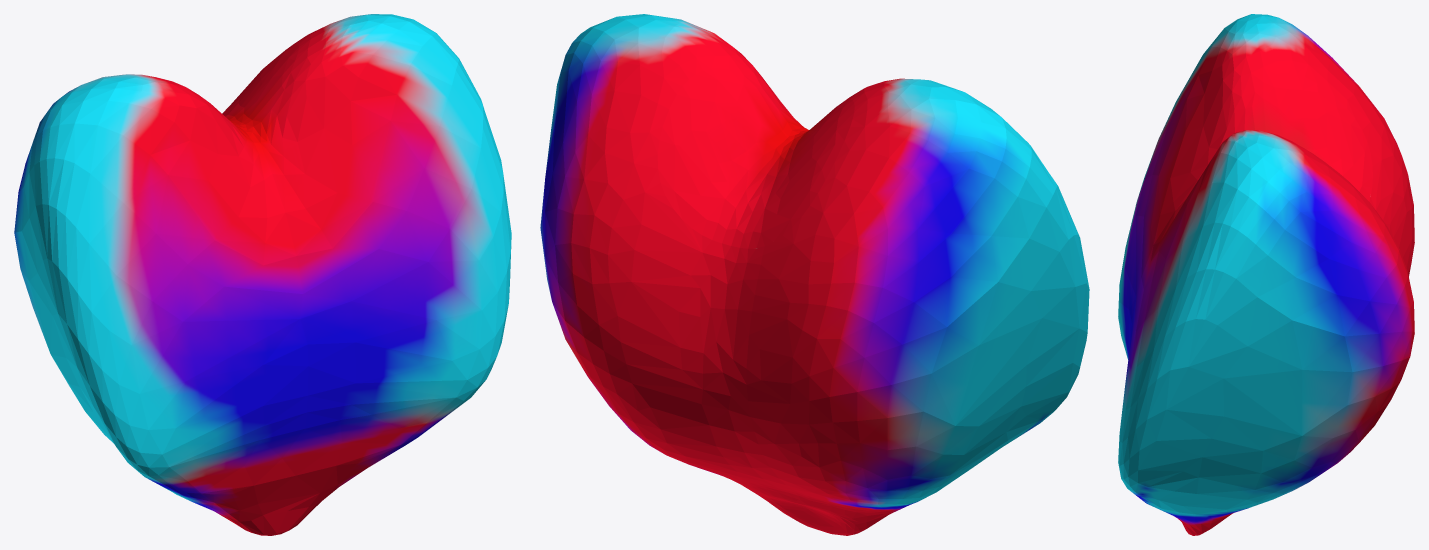
3 renders of one model, left to right at view 1: azimuth 30°, elevation 25°; view 2: azimuth 150°, elevation 25°; view 3: azimuth 270°, elevation 25°, orthographic. The views are drawn at different scales.
Visible parts, largest first — view 1: 円柱; view 2: 円柱; view 3: 円柱.
Boxes of the visible parts, x1,y1,x2,y2 form: 円柱: (14, 14, 511, 535); 円柱: (540, 14, 1089, 535); 円柱: (1118, 14, 1414, 535).
Size of the model in its own units: 0.6133 by 0.6035 by 0.3629.
Materials: 1 (1 with a texture image).
